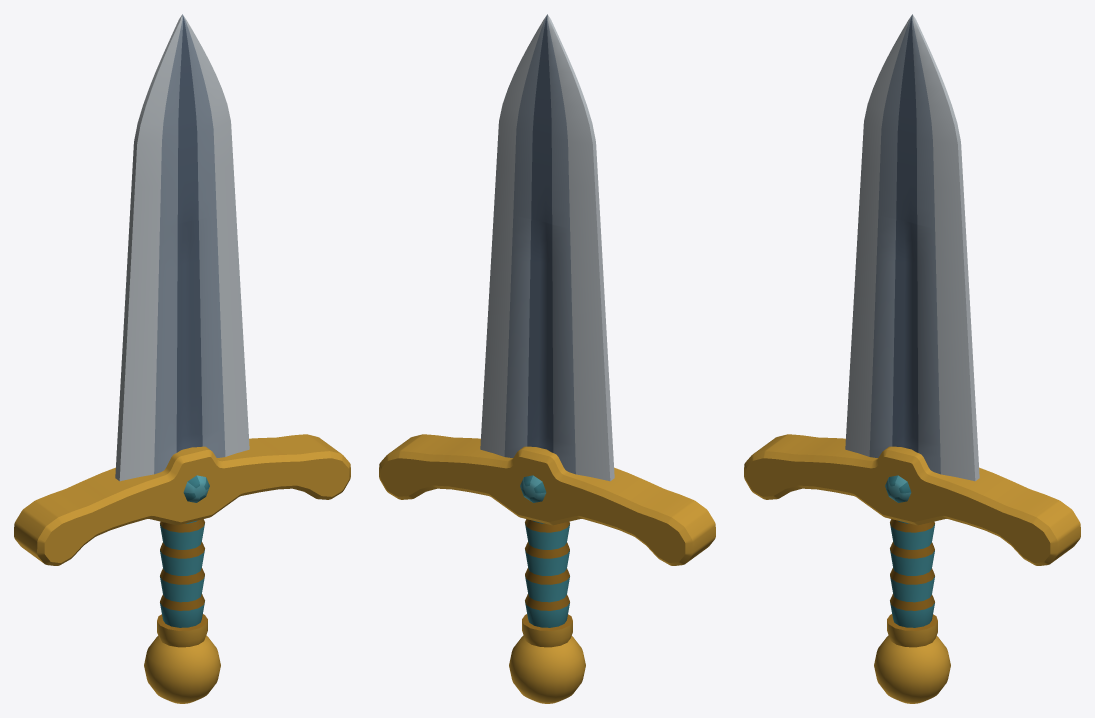
The model's file is Broadsword_02.glb.
The picture shows the model from 3 angles, left to right: view 1: azimuth 30°, elevation 25°; view 2: azimuth 150°, elevation 25°; view 3: azimuth 330°, elevation 25°; orthographic projection.
Visible parts, largest first — view 1: Broadsword_02; view 2: Broadsword_02; view 3: Broadsword_02.
Part boxes in pixels (x1,y1,x2,y2): Broadsword_02: (14,14,350,703); Broadsword_02: (379,14,715,703); Broadsword_02: (744,14,1080,703).
Bounding box in the file's own units: 3 × 6.27 × 0.638.
